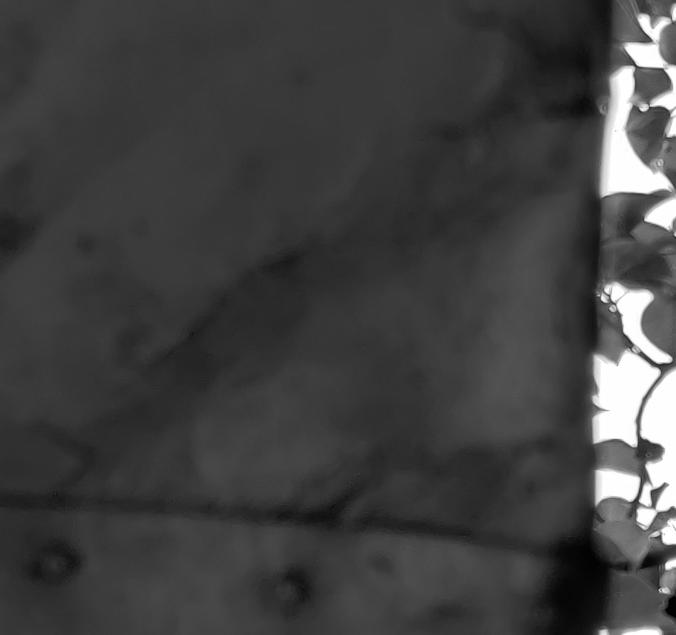dent: (1, 1, 676, 635)
